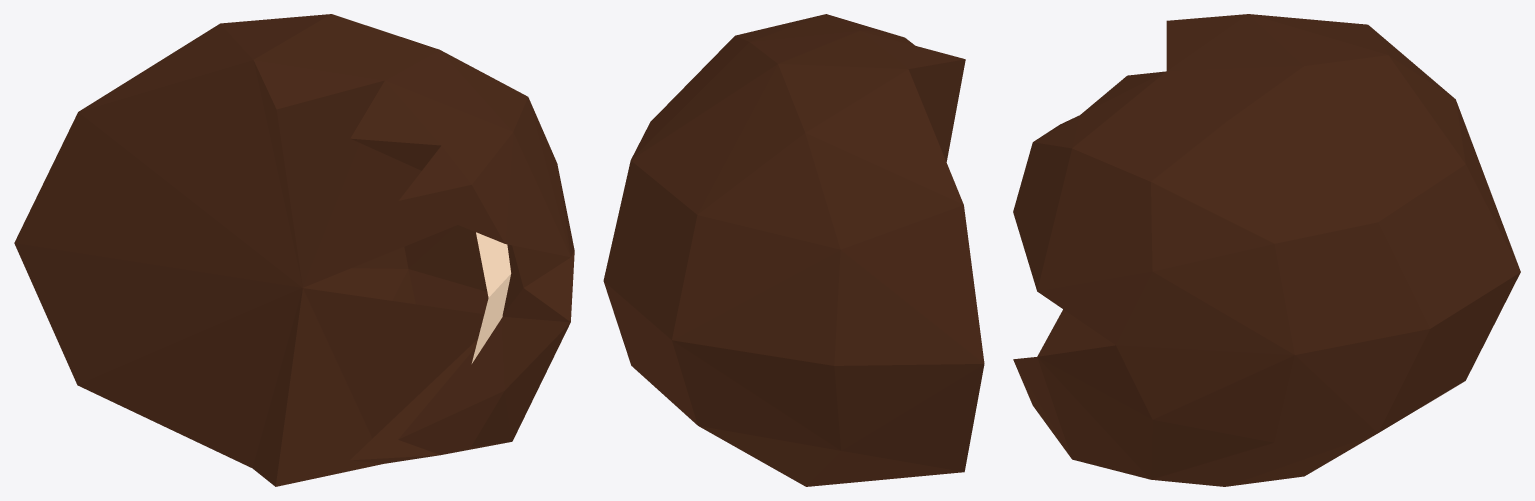
Rendered from hair17.glb.
3 views of the same model, side by side, from view 1: azimuth 30°, elevation 25°; view 2: azimuth 150°, elevation 25°; view 3: azimuth 270°, elevation 25° (orthographic). The views are drawn at different scales.
Parts seen in each view (by area): view 1: tomodachi-2026-03-13-22-18-10-543, tomodachi-2026-03-13-22-18-10-543.008; view 2: tomodachi-2026-03-13-22-18-10-543; view 3: tomodachi-2026-03-13-22-18-10-543.
Boxes of the visible parts, x1,y1,x2,y2 form: tomodachi-2026-03-13-22-18-10-543: (14, 14, 574, 486); tomodachi-2026-03-13-22-18-10-543.008: (471, 232, 511, 363); tomodachi-2026-03-13-22-18-10-543: (603, 14, 984, 486); tomodachi-2026-03-13-22-18-10-543: (1013, 14, 1520, 486).
Bounding box in the file's own units: 1.26 × 1.14 × 1.28.
2 materials, 2 textured.
